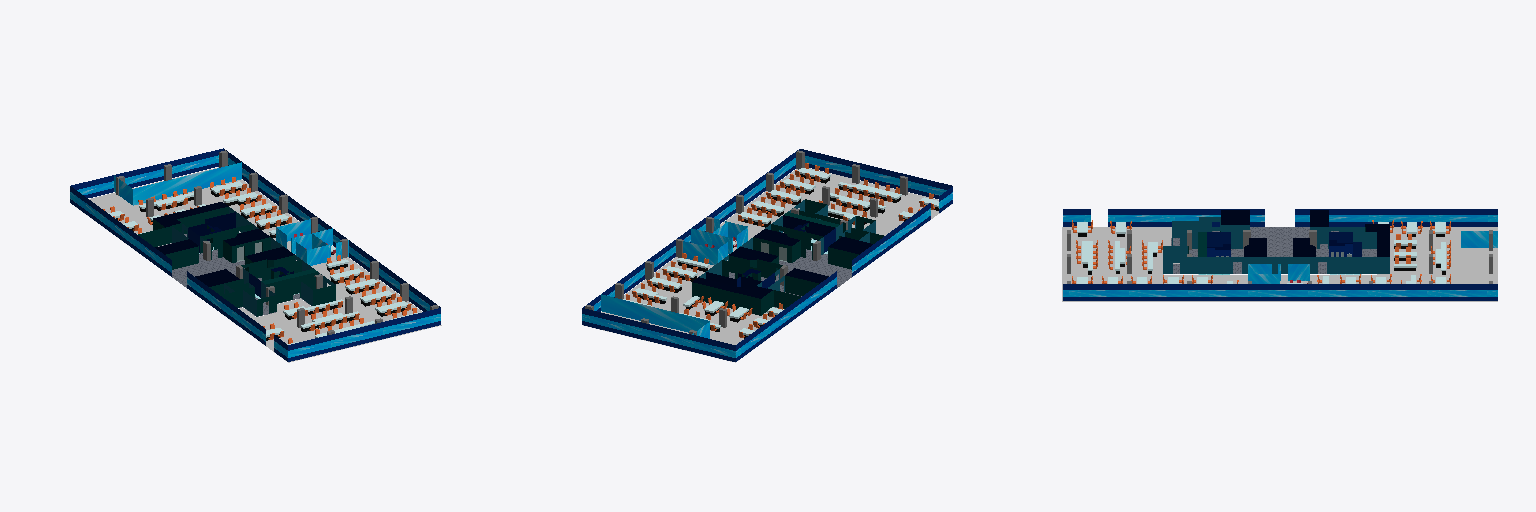
The picture shows the model from 3 angles: view 1: azimuth 30°, elevation 25°; view 2: azimuth 150°, elevation 25°; view 3: azimuth 270°, elevation 25°; orthographic projection.
Visible parts, largest first — view 1: interactMuros_Plane.004, interactMuroInterior_Plane.003, suelo_Plane.002, interactSalas_Plane.013, interactMesas_Plane.005, sillas_Plane, interactColumnas_Plane.016, sueloEntrada_Plane.019, piesMesa_Plane.010; view 2: interactMuros_Plane.004, interactMuroInterior_Plane.003, suelo_Plane.002, interactSalas_Plane.013, interactMesas_Plane.005, sillas_Plane, interactColumnas_Plane.016, sueloEntrada_Plane.019, piesMesa_Plane.010; view 3: interactMuros_Plane.004, interactMuroInterior_Plane.003, suelo_Plane.002, interactMesas_Plane.005, sueloEntrada_Plane.019, interactSalas_Plane.013, sillas_Plane, interactColumnas_Plane.016.
Part boxes in pixels (x1,y1,x2,y2): interactMuros_Plane.004: (70, 148, 440, 361); interactMuroInterior_Plane.003: (138, 202, 335, 316); suelo_Plane.002: (76, 167, 441, 362); interactSalas_Plane.013: (114, 162, 348, 265); interactMesas_Plane.005: (108, 181, 419, 344); sillas_Plane: (103, 177, 416, 343); interactColumnas_Plane.016: (116, 150, 438, 334); sueloEntrada_Plane.019: (143, 234, 309, 316); piesMesa_Plane.010: (116, 188, 406, 340); interactMuros_Plane.004: (582, 149, 952, 361); interactMuroInterior_Plane.003: (692, 199, 883, 315); suelo_Plane.002: (583, 168, 951, 362); interactSalas_Plane.013: (601, 218, 747, 338); interactMesas_Plane.005: (623, 168, 938, 335); sillas_Plane: (626, 163, 934, 337); interactColumnas_Plane.016: (585, 150, 907, 335); sueloEntrada_Plane.019: (729, 249, 880, 309); piesMesa_Plane.010: (638, 174, 938, 338); interactMuros_Plane.004: (1063, 209, 1497, 300); interactMuroInterior_Plane.003: (1163, 210, 1389, 273); suelo_Plane.002: (1062, 227, 1497, 301); interactMesas_Plane.005: (1077, 222, 1445, 283); sueloEntrada_Plane.019: (1171, 227, 1376, 273); interactSalas_Plane.013: (1248, 231, 1497, 283); sillas_Plane: (1072, 220, 1450, 283); interactColumnas_Plane.016: (1067, 230, 1492, 283).
Bounding box in the file's own units: 2.51 × 0.2875 × 6.17.
Materials: 18 (3 with a texture image).